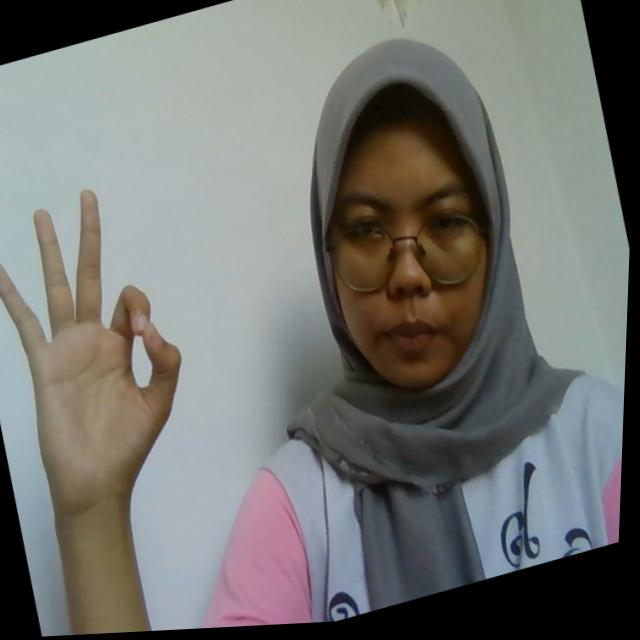F: (1, 168, 218, 520)
